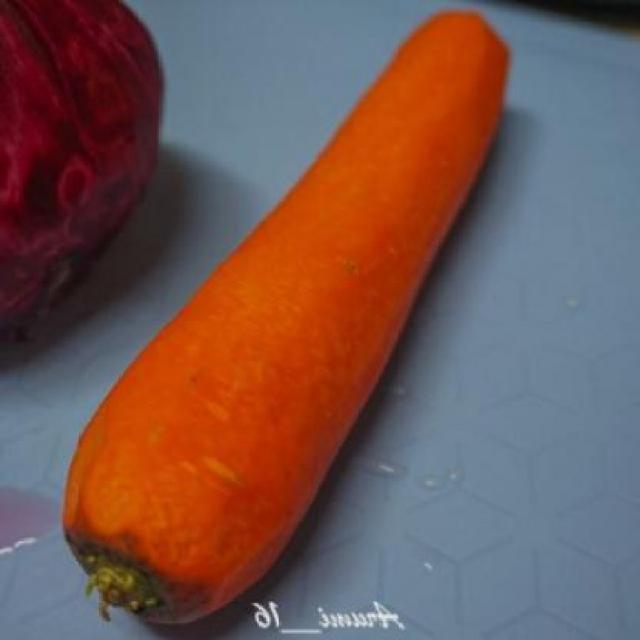carrot: (61, 1, 530, 627)
